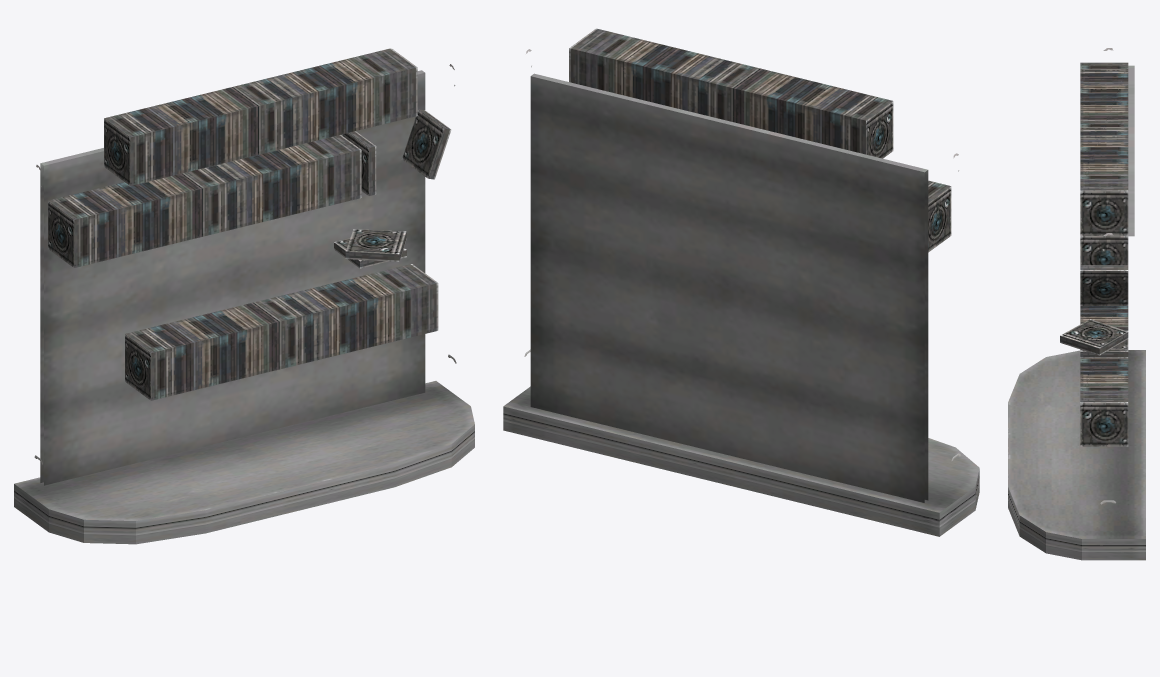
File: frn_all_mdrn_bookcase_s01_l0.fbx
The picture shows the model from 3 angles, left to right: view 1: azimuth 30°, elevation 25°; view 2: azimuth 150°, elevation 25°; view 3: azimuth 270°, elevation 25°; orthographic projection. The views are drawn at different scales.
Visible parts, largest first — view 1: mesh_node; view 2: mesh_node; view 3: mesh_node.
Boxes of the visible parts, left/top/right/bottom form: mesh_node: left=14, top=48, right=474, bottom=544; mesh_node: left=503, top=28, right=979, bottom=536; mesh_node: left=1008, top=48, right=1145, bottom=560.
Size of the model in its own units: 1.5 by 1.8 by 0.4615.
